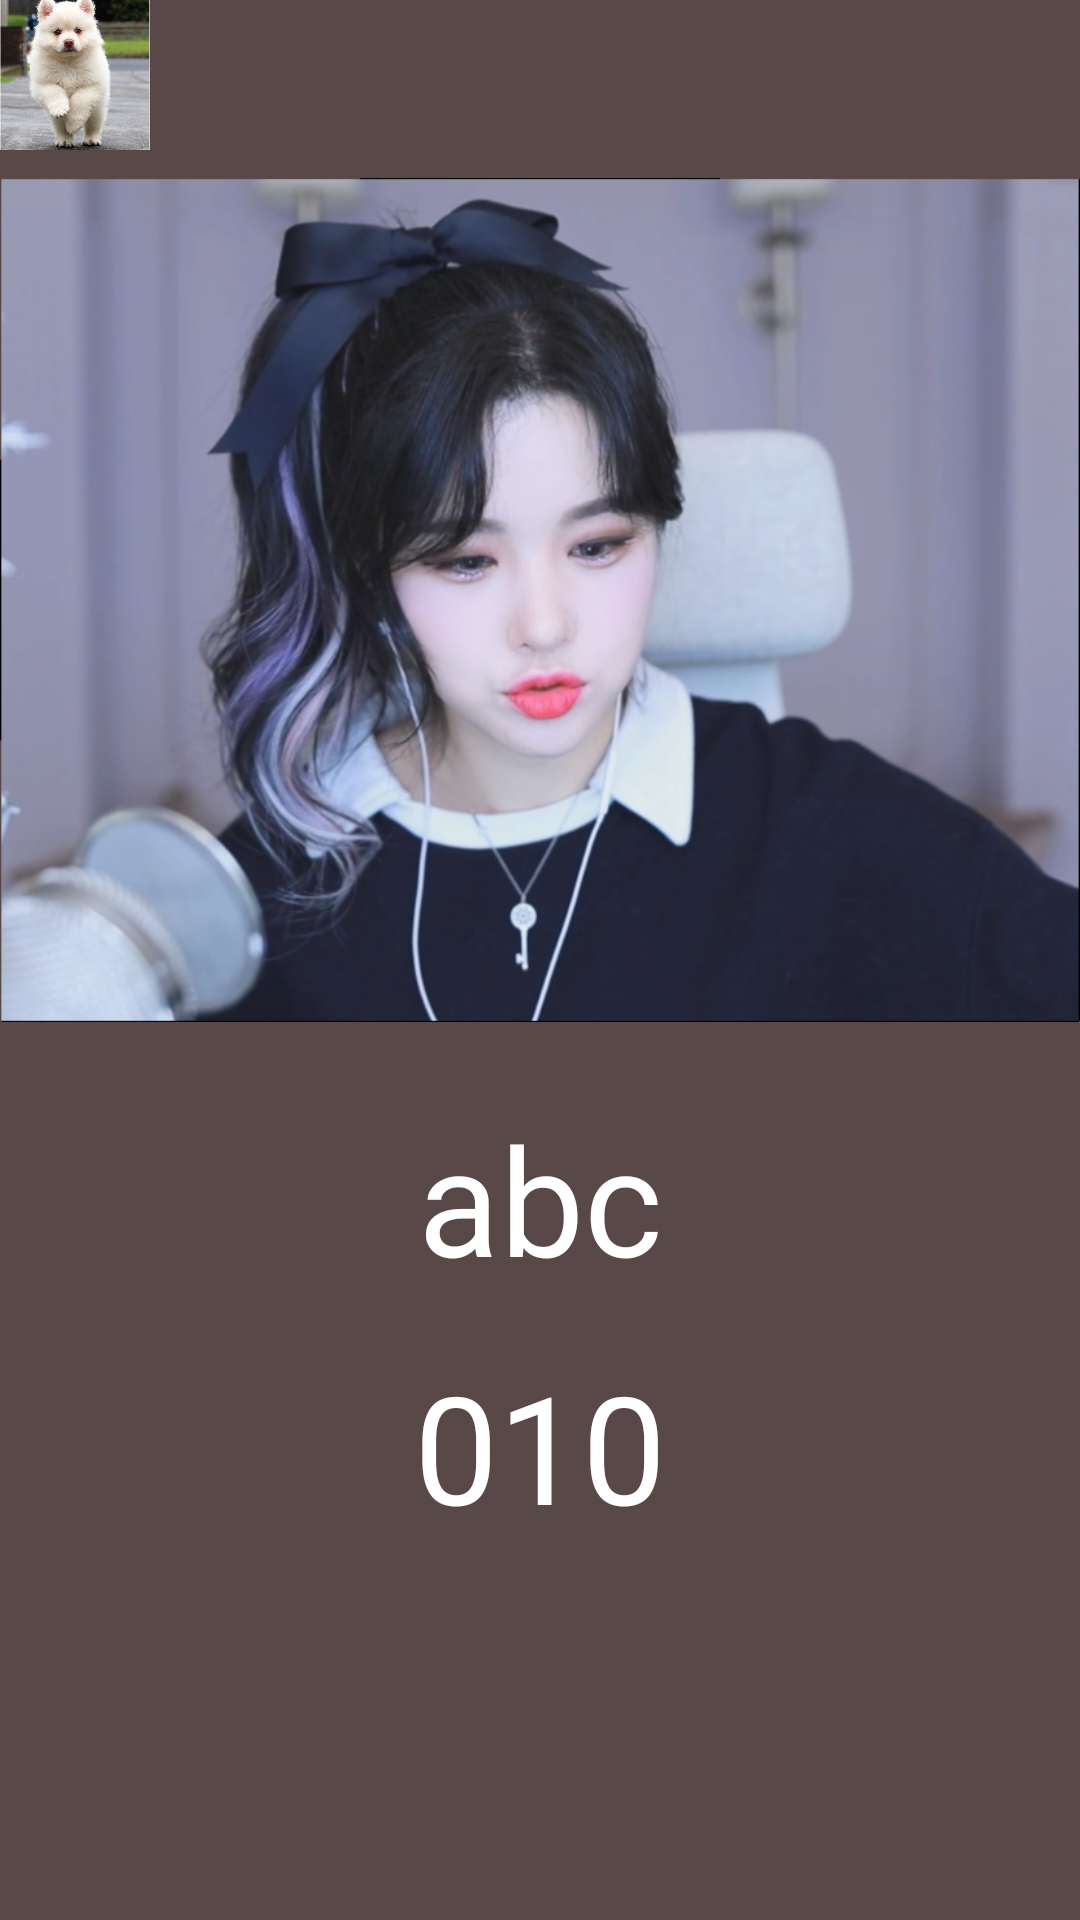

Named icons in this screenshot (1080px x 1920px) and their bounding boxes, (x1, y1, x2, y2):
dog: (0, 0, 150, 150)
